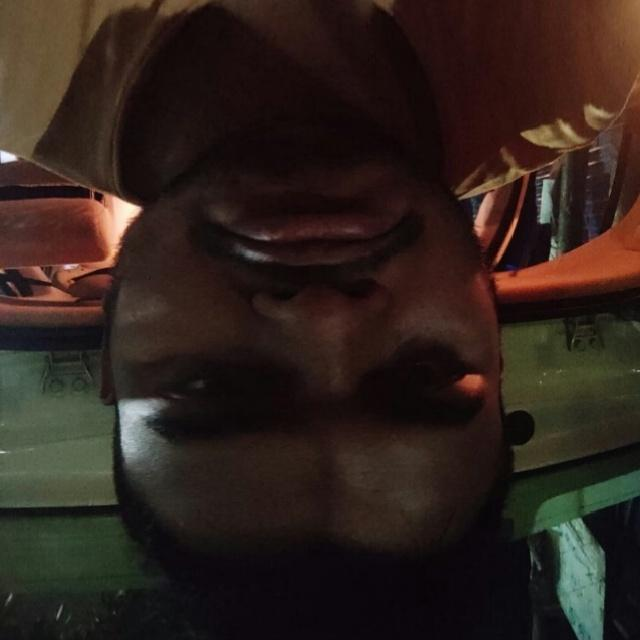Sad: (85, 76, 520, 621)
